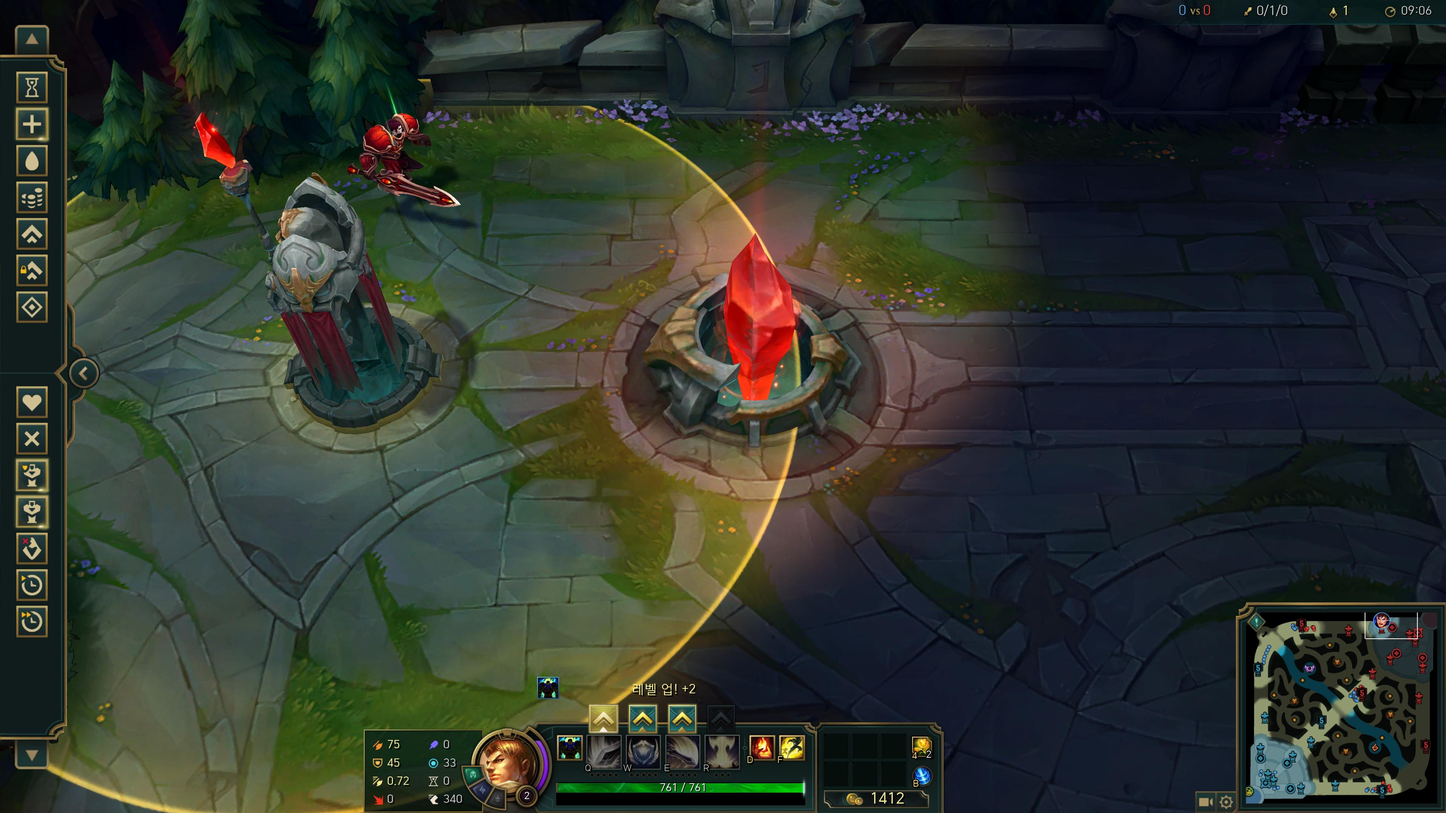enemy-inhibitor: (605, 233, 917, 494)
